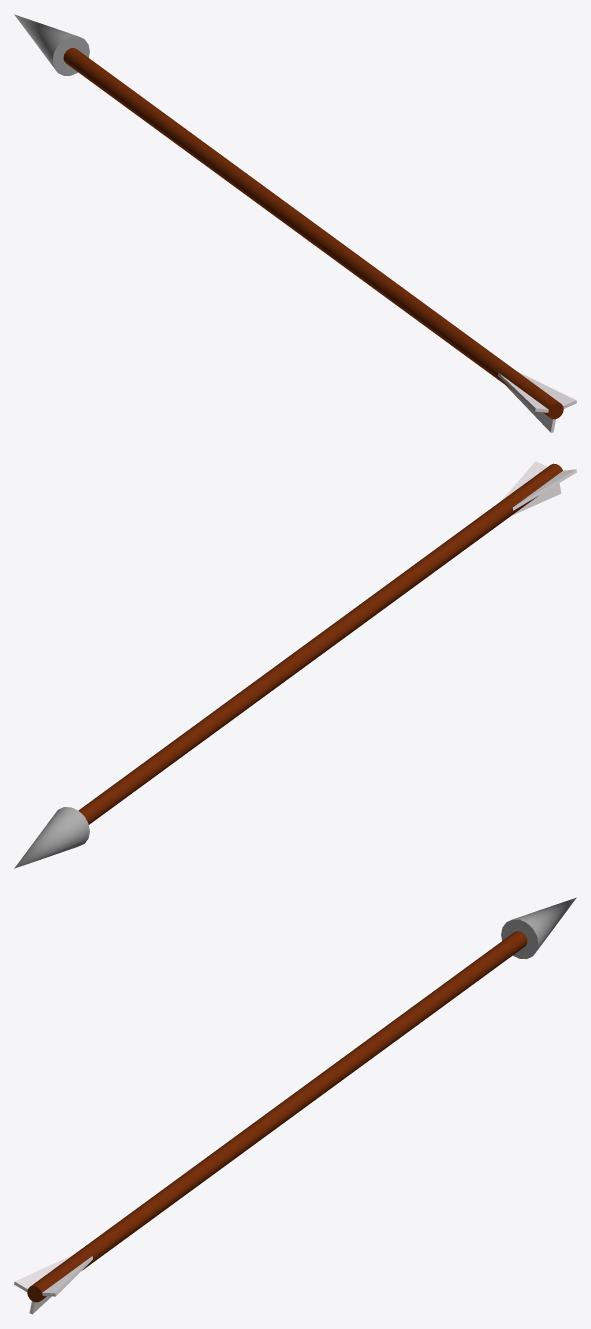
The model's file is Arrow.fbx.
3 views of the same model, one above another, from view 1: azimuth 30°, elevation 25°; view 2: azimuth 150°, elevation 25°; view 3: azimuth 330°, elevation 25° (orthographic).
Parts seen in each view (by area): view 1: Cylinder; view 2: Cylinder; view 3: Cylinder.
Part boxes in pixels (<box>): Cylinder: <box>14,14,576,432</box>; Cylinder: <box>14,461,576,868</box>; Cylinder: <box>14,897,576,1314</box>.
Size of the model in its own units: 19.97 by 18.48 by 448.
